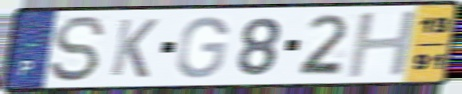2: (296, 12, 350, 79)
8: (237, 16, 283, 77)
G: (173, 14, 231, 81)
H: (345, 8, 422, 80)
K: (108, 17, 161, 81)
S: (47, 14, 108, 84)
